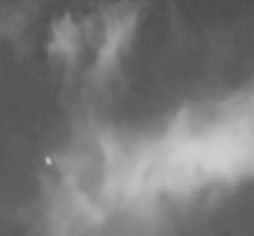Target: (46, 156, 52, 164)
